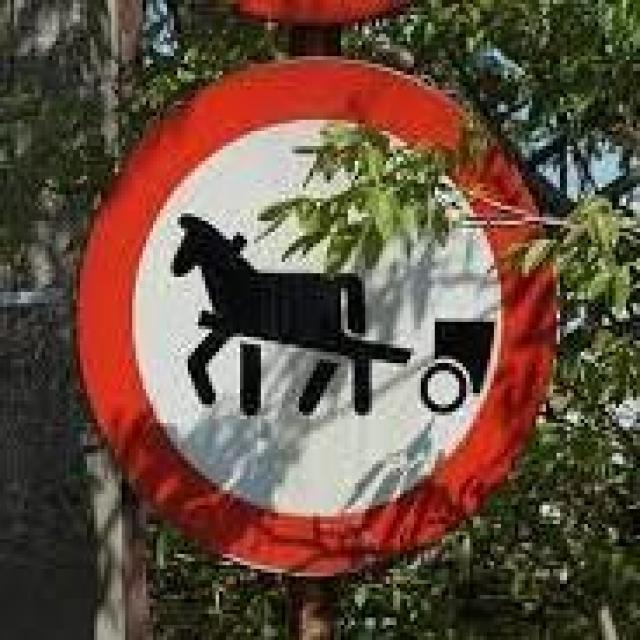obstructed_road_sign: (78, 59, 555, 574)
